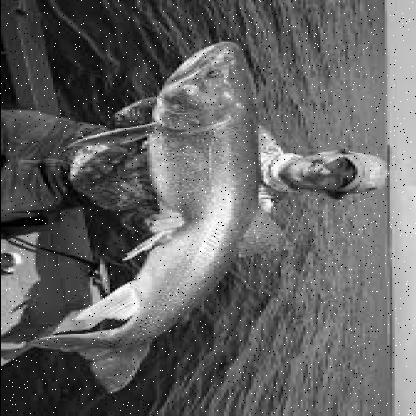fish: (34, 41, 293, 392)
